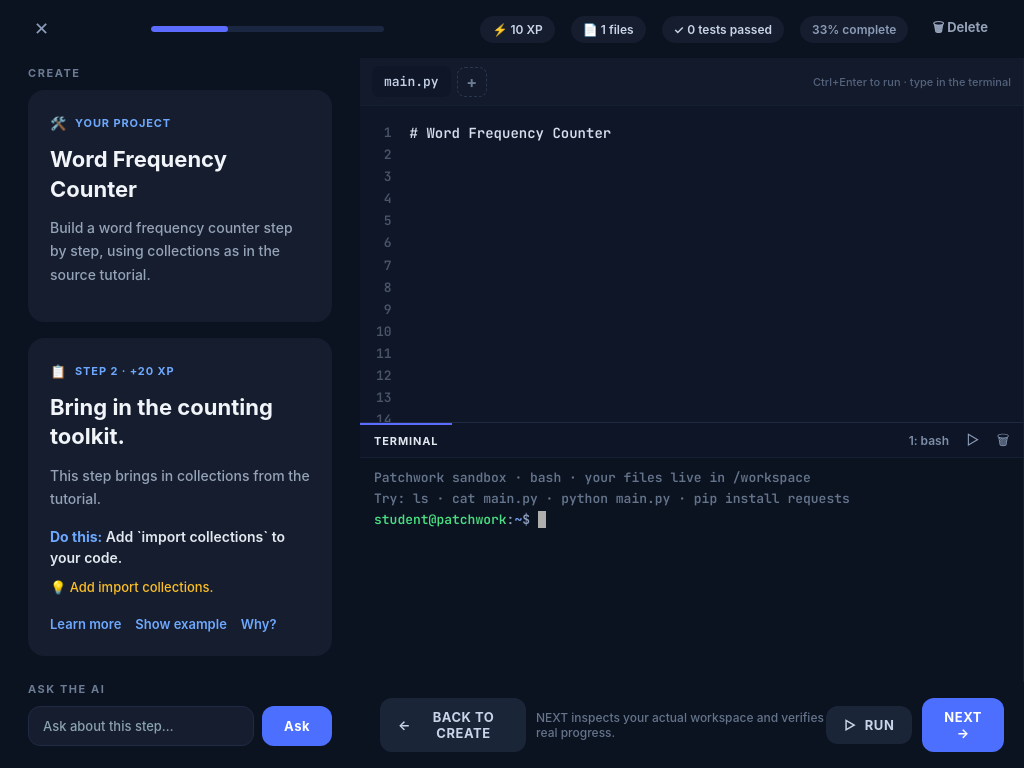
Test: ProjectWorkspace › sends typed pip install commands to the isolated sandbox
This screenshot has width=1024, height=768.
Check: the heading "Word Frequency Counter" is shown, box [50,146,227,202]
Replace the text in the field named "Terminal command" with "pip install requests". click: coordinates (460, 519)
box: [374,511,546,528]
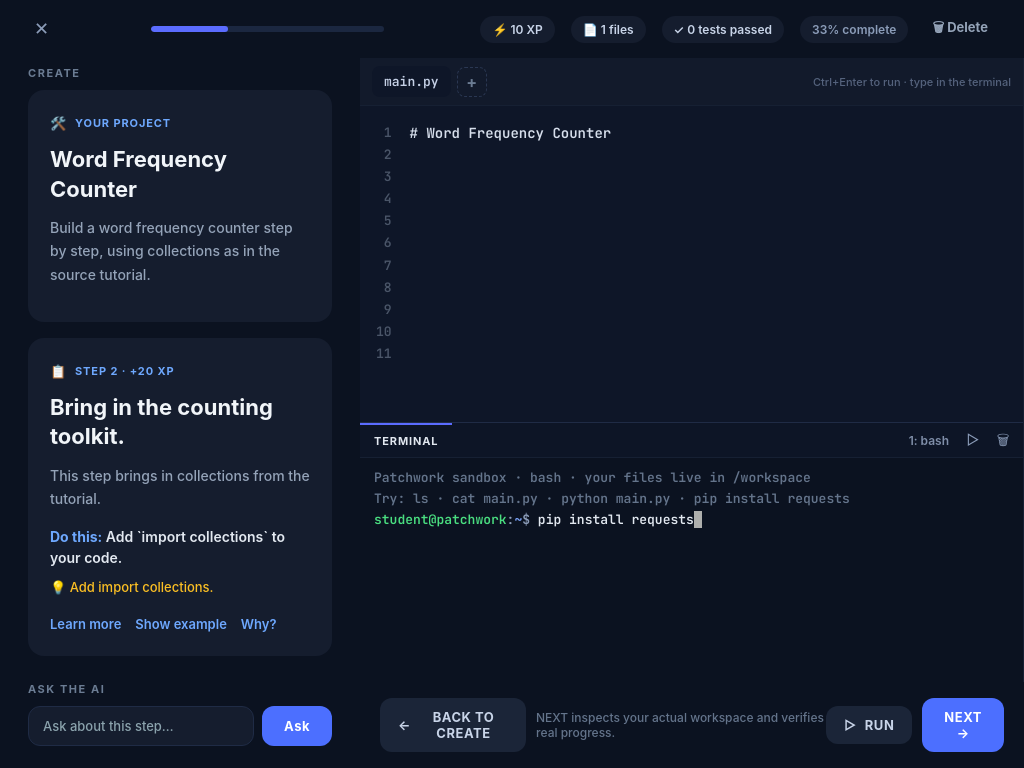
Press Enter in the field named "Terminal command", box [374,511,702,528]
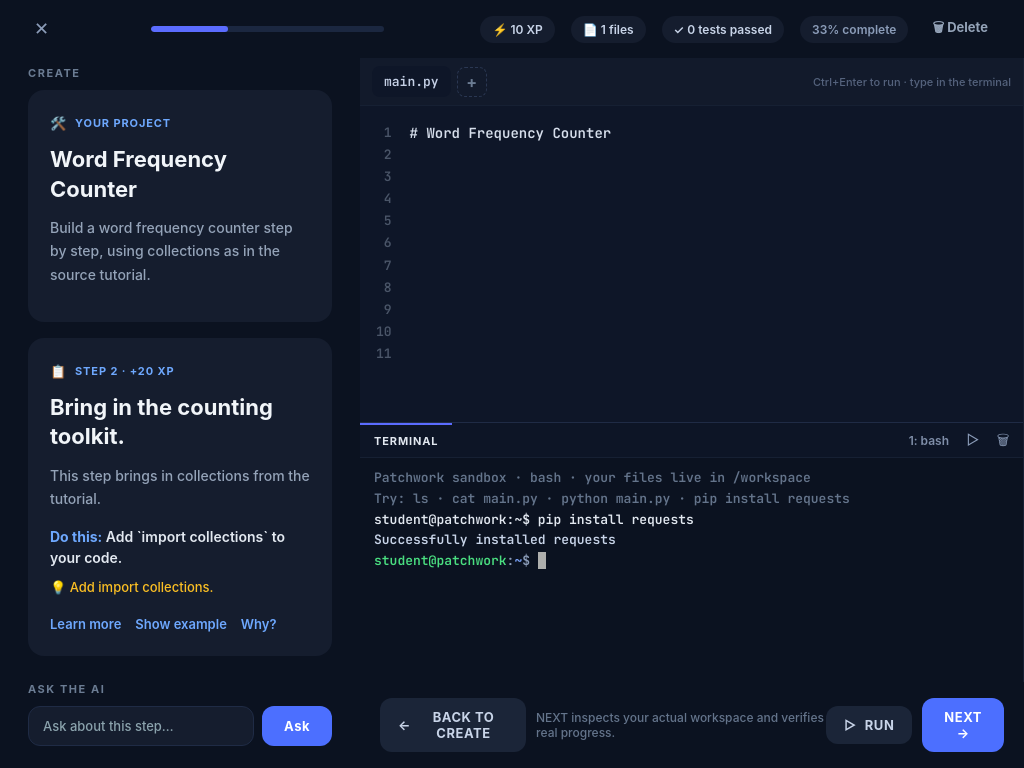
Check: the text "Successfully installed requests" is shown, box [374,531,616,548]
